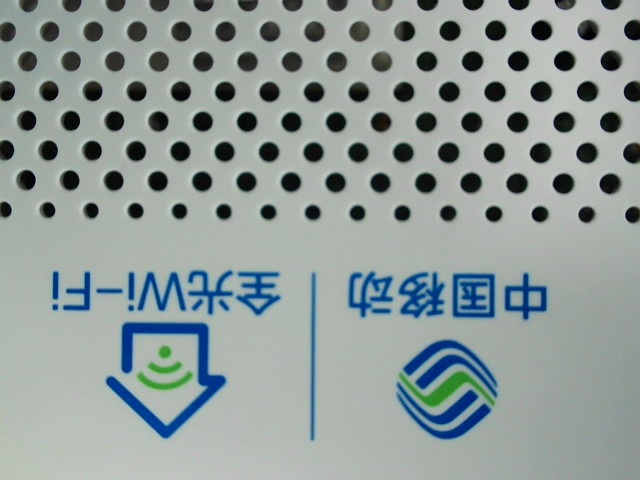BJ_QuanGuangMobile: (33, 249, 552, 448)
